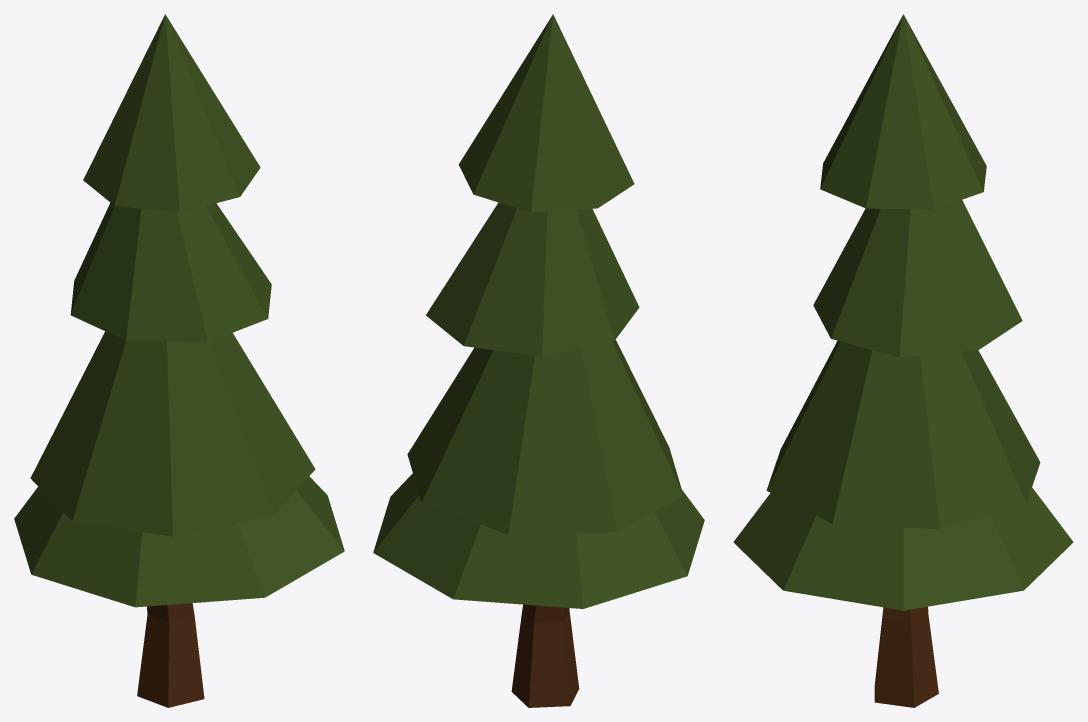
The model's file is tree.fbx.
3 views of the same model, side by side, from view 1: azimuth 30°, elevation 25°; view 2: azimuth 150°, elevation 25°; view 3: azimuth 270°, elevation 25° (orthographic).
Parts seen in each view (by area): view 1: Cylinder; view 2: Cylinder; view 3: Cylinder.
Part boxes in pixels (left/top/right/bottom): Cylinder: left=14, top=14, right=344, bottom=707; Cylinder: left=373, top=14, right=704, bottom=707; Cylinder: left=733, top=14, right=1073, bottom=707.
Size of the model in its own units: 559 by 1227 by 559.
